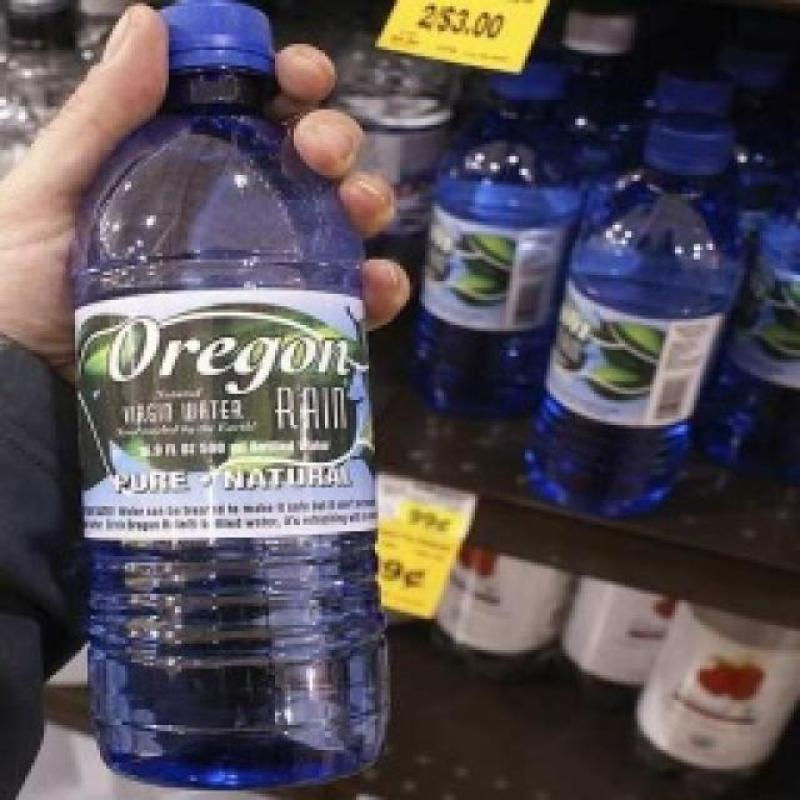botella: (66, 0, 396, 794), (530, 116, 746, 522), (419, 63, 591, 432), (322, 27, 453, 271), (700, 156, 800, 475), (0, 0, 85, 119)
